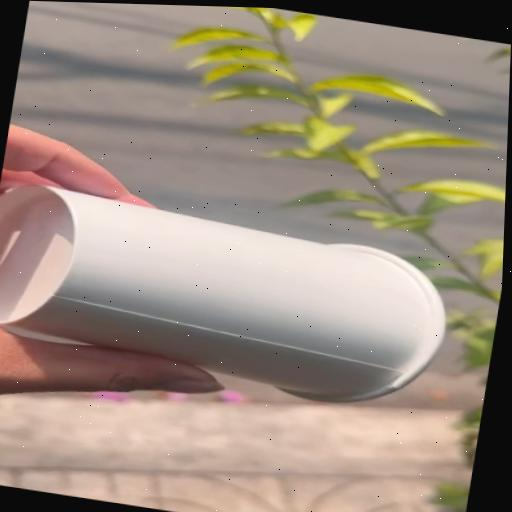Ly_giay: (0, 186, 444, 402)
